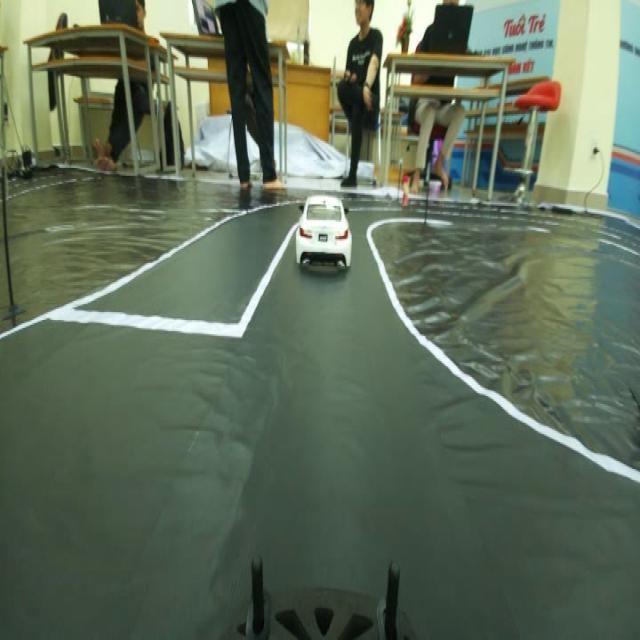car: (289, 186, 356, 275)
